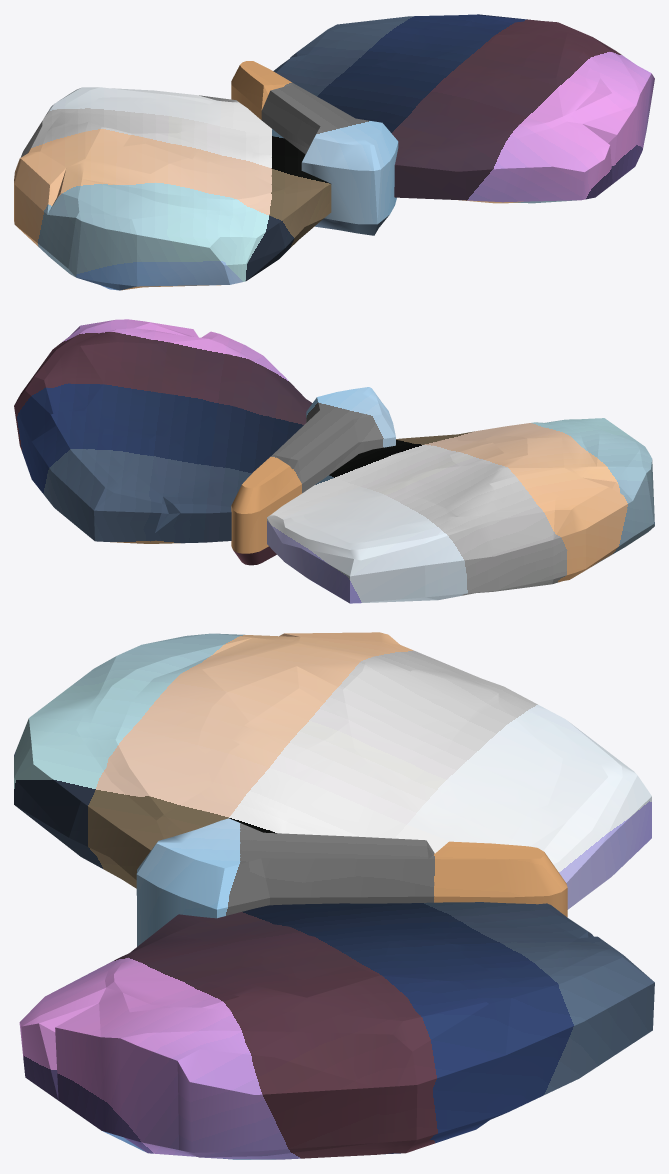
Rendered from CharSkyKid_Prop_AP27ButterflyToy.glb.
3 views of the same model, one above another, from view 1: azimuth 30°, elevation 25°; view 2: azimuth 150°, elevation 25°; view 3: azimuth 270°, elevation 25° (orthographic). The views are drawn at different scales.
Parts seen in each view (by area): view 1: CharSkyKid_Prop_AP27ButterflyToy; view 2: CharSkyKid_Prop_AP27ButterflyToy; view 3: CharSkyKid_Prop_AP27ButterflyToy.
Boxes of the visible parts, x1=… form: CharSkyKid_Prop_AP27ButterflyToy: x1=14, y1=14, x2=654, y2=290; CharSkyKid_Prop_AP27ButterflyToy: x1=14, y1=319, x2=654, y2=603; CharSkyKid_Prop_AP27ButterflyToy: x1=14, y1=632, x2=654, y2=1159.
Size of the model in its own units: 3.12 by 0.5499 by 1.91.
1 material, 1 textured.
